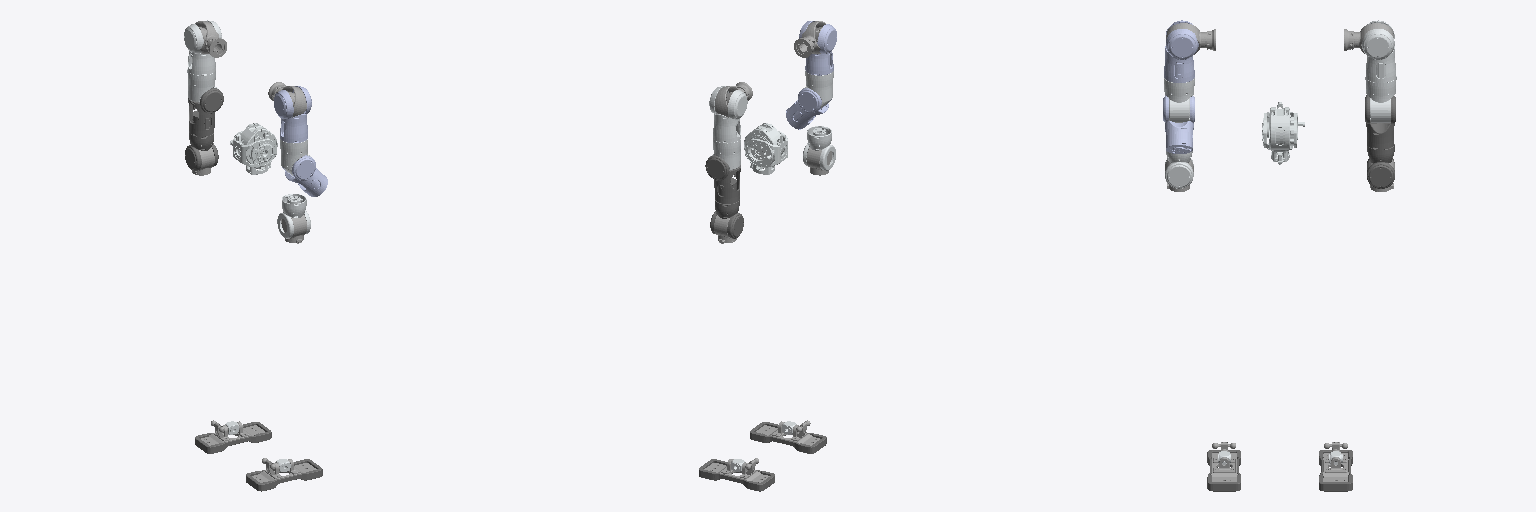
--- Render facts (derived) ---
The picture shows the robot from 3 angles, left to right: view 1: azimuth 30°, elevation 25°; view 2: azimuth 150°, elevation 25°; view 3: azimuth 270°, elevation 25°; orthographic projection.
Robot: ehr03 — 32 links, 31 joints (27 revolute, 4 fixed); root link base_link; default pose: every joint at zero.
Links seen in each view (by area): view 1: r_arm_l2, l_arm_l4, l_arm_l2, r_arm_l4, torso_l2, r_arm_l5, torso_l1, r_foot, l_foot, l_arm_l5, l_arm_l1, l_leg_l6 (+4 smaller); view 2: l_arm_l2, l_arm_l4, r_arm_l2, r_arm_l4, torso_l2, r_arm_l5, torso_l1, l_foot, r_foot, l_arm_l5, r_arm_l1, r_leg_l6 (+4 smaller); view 3: r_arm_l2, l_arm_l2, torso_l1, r_arm_l4, l_arm_l3, l_arm_l5, r_arm_l3, l_arm_l4, r_arm_l5, r_leg_l6, l_leg_l6, l_foot (+3 smaller).
Boxes of the visible links, x1,y1,x2,y2 form: r_arm_l2: (274,86,311,142); l_arm_l4: (188,88,223,136); l_arm_l2: (184,20,221,75); r_arm_l4: (282,155,327,196); torso_l2: (230,131,276,167); r_arm_l5: (277,194,310,238); torso_l1: (238,123,277,174); r_foot: (246,459,322,491); l_foot: (195,422,271,453); l_arm_l5: (185,132,218,170); l_arm_l1: (195,21,226,57); l_leg_l6: (201,420,264,445); l_arm_l2: (709,86,747,142); l_arm_l4: (705,155,740,203); r_arm_l2: (799,21,836,75); r_arm_l4: (786,88,831,129); torso_l2: (745,131,787,167); r_arm_l5: (803,126,835,170); torso_l1: (744,123,783,174); l_foot: (699,459,774,491); r_foot: (750,422,826,453); l_arm_l5: (710,200,743,238); r_arm_l1: (794,21,825,57); r_leg_l6: (756,420,819,445); r_arm_l2: (1164,20,1198,82); l_arm_l2: (1361,20,1395,82); torso_l1: (1267,107,1292,164); r_arm_l4: (1163,95,1194,153); l_arm_l3: (1365,76,1396,122); l_arm_l5: (1367,144,1394,188); r_arm_l3: (1164,78,1194,122); l_arm_l4: (1365,95,1395,149); r_arm_l5: (1165,151,1193,188); r_leg_l6: (1211,442,1237,481); l_leg_l6: (1323,442,1348,481); l_foot: (1319,450,1352,491).
Size in the robot's own frame: 0.222 by 0.6322 by 1.33 metres.
Meshes: 32 distinct files referenced, 20 mesh visuals loaded (20 binary STL); not drawn: 12 (reference not matched to a file when rendering).

The robot description file, URDF, robot "ehr03":
<?xml version="1.0" encoding="utf-8"?>
<!-- This URDF was automatically created by SolidWorks to URDF Exporter! Originally created by Stephen Brawner ([email redacted]) 
     Commit Version: 1.6.0-4-g7f85cfe  Build Version: 1.6.7995.38578
     For more information, please see http://wiki.ros.org/sw_urdf_exporter -->
<robot
  name="ehr03">

  <!-- <mujoco>
		<compiler
		meshdir="./meshes"
		balanceinertia="true"
		discardvisual="false"/>
	</mujoco>

  <link name="world"></link>

	<joint name="floating_base_joint" type="floating">
		<parent link="world" />
		<child link="base_link" />
	</joint> -->


  <link
    name="base_link">
    <inertial>
      <origin
        xyz="-0.00031712 1.8472E-06 -0.0015049"
        rpy="0 0 0" />
      <mass
        value="6.8251" />
      <inertia
        ixx="0.012973"
        ixy="-9.1198E-08"
        ixz="3.8274E-06"
        iyy="0.020966"
        iyz="1.5026E-07"
        izz="0.015372" />
    </inertial>
    <visual>
      <origin
        xyz="0 0 0"
        rpy="0 0 0" />
      <geometry>
        <mesh
          filename="../meshes/base_link.STL" />
      </geometry>
      <material
        name="">
        <color
          rgba="0.97255 0.9451 0.78039 1" />
      </material>
    </visual>
    <collision>
      <origin
        xyz="0 0 0.02"
        rpy="0 0 0" />
      <geometry>
        <box size="0.15 0.2 0.1"/> 
      </geometry>
    </collision>
  </link>
  <link
    name="torso_l1">
    <inertial>
      <origin
        xyz="-0.00046046 -0.0013084 0.071422"
        rpy="0 0 0" />
      <mass
        value="1.0825" />
      <inertia
        ixx="0.0012278"
        ixy="-1.0664E-07"
        ixz="3.4445E-06"
        iyy="0.0021329"
        iyz="-2.2989E-07"
        izz="0.0010455" />
    </inertial>
    <visual>
      <origin
        xyz="0 0 0"
        rpy="0 0 0" />
      <geometry>
        <mesh
          filename="../meshes/torso_l1.STL" />
      </geometry>
      <material
        name="">
        <color
          rgba="0.89804 0.92157 0.92941 1" />
      </material>
    </visual>
    <!-- <collision>
      <origin
        xyz="0 0 0"
        rpy="0 0 0" />
      <geometry>
        <mesh
          filename="../meshes/torso_l1.STL" />
      </geometry>
    </collision> -->
  </link>
  <joint
    name="torso_1"
    type="revolute">
    <origin
      xyz="0 0 0.081437"
      rpy="0 0 0" />
    <parent
      link="base_link" />
    <child
      link="torso_l1" />
    <axis
      xyz="0 0 1" />
    <limit
      lower="2.1"
      upper="-2.1"
      effort="0"
      velocity="0" />
  </joint>
  <link
    name="torso_l2">
    <inertial>
      <origin
        xyz="-0.0202799179905051 0.00208474489443306 -0.000242589659218001"
        rpy="0 0 0" />
      <mass
        value="0.287229653991035" />
      <inertia
        ixx="0.000386494792210617"
        ixy="1.05647346940112E-05"
        ixz="-2.18709366237198E-06"
        iyy="0.000406851266306706"
        iyz="1.25603001489408E-07"
        izz="0.000474516576624121" />
    </inertial>
    <visual>
      <origin
        xyz="0 0 0"
        rpy="0 0 0" />
      <geometry>
        <mesh
          filename="../meshes/torso_l2.STL" />
      </geometry>
      <material
        name="">
        <color
          rgba="0.898039215686275 0.92156862745098 0.929411764705882 1" />
      </material>
    </visual>
    <!-- <collision>
      <origin
        xyz="0 0 0"
        rpy="0 0 0" />
      <geometry>
        <mesh
          filename="../meshes/torso_l2.STL" />
      </geometry>
    </collision> -->
  </link>
  <joint
    name="torso_2"
    type="revolute">
    <origin
      xyz="0 0 0.075"
      rpy="0 0 0" />
    <parent
      link="torso_l1" />
    <child
      link="torso_l2" />
    <axis
      xyz="0 1 0" />
    <limit
      lower="-0.523"
      upper="0.523"
      effort="0"
      velocity="0" />
  </joint>
  <link
    name="torso_l3">
    <inertial>
      <origin
        xyz="0.0373799264981473 0.00162473081269276 0.179849423091844"
        rpy="0 0 0" />
      <mass
        value="12.2978009489006" />
      <inertia
        ixx="0.0939351432924298"
        ixy="-7.53157342591253E-05"
        ixz="0.000294123933166326"
        iyy="0.0572573444631563"
        iyz="0.00170759027911608"
        izz="0.069198092393494" />
    </inertial>
    <visual>
      <origin
        xyz="0 0 0"
        rpy="0 0 0" />
      <geometry>
        <mesh
          filename="../meshes/torso_l3.STL" />
      </geometry>
      <material
        name="">
        <color
          rgba="0.698039215686274 0.698039215686274 0.698039215686274 1" />
      </material>
    </visual>
    <collision>
      <origin
        xyz="0.04 0 0.15"
        rpy="0 0 0" />
      <geometry>
        <box size="0.2 0.25 0.35"/>
      </geometry>
    </collision>
  </link>
  <joint
    name="torso_3"
    type="revolute">
    <origin
      xyz="-0.07 0 0"
      rpy="0 0 0" />
    <parent
      link="torso_l2" />
    <child
      link="torso_l3" />
    <axis
      xyz="1 0 0" />
    <limit
      lower="-0.523"
      upper="0.523"
      effort="0"
      velocity="0" />
  </joint>

  <link
    name="l_arm_l1">
    <inertial>
      <origin
        xyz="0.0042817 0.079957 3.9439E-05"
        rpy="0 0 0" />
      <mass
        value="0.85741" />
      <inertia
        ixx="0.00063493"
        ixy="-1.345E-05"
        ixz="-5.8747E-07"
        iyy="0.00040568"
        iyz="1.9437E-07"
        izz="0.00048248" />
    </inertial>
    <visual>
      <origin
        xyz="0 0 0"
        rpy="0 0 0" />
      <geometry>
        <mesh
          filename="../meshes/l_arm_l1.STL" />
      </geometry>
      <material
        name="">
        <color
          rgba="0.69804 0.69804 0.69804 1" />
      </material>
    </visual>
    <collision>
      <origin
        xyz="0 -0.02 0"
        rpy="1.5708 0 0" />
      <geometry>
        <cylinder length="0.03" radius="0.05"/>
      </geometry>
    </collision>
  </link>
  <joint
    name="l_arm_1"
    type="revolute">
    <origin
      xyz="0.0385 0.1775 0.26"
      rpy="0 0 0" />
    <parent
      link="torso_l3" />
    <child
      link="l_arm_l1" />
    <axis
      xyz="0 1 0" />
    <limit
      lower="-3.14"
      upper="3.14"
      effort="0"
      velocity="0" />
  </joint>
  <link
    name="l_arm_l2">
    <inertial>
      <origin
        xyz="0.0013144 0.0064102 -0.06401"
        rpy="0 0 0" />
      <mass
        value="0.738" />
      <inertia
        ixx="0.00099895"
        ixy="7.8351E-07"
        ixz="6.6198E-06"
        iyy="0.00082629"
        iyz="4.6884E-05"
        izz="0.00047617" />
    </inertial>
    <visual>
      <origin
        xyz="0 0 0"
        rpy="0 0 0" />
      <geometry>
        <mesh
          filename="../meshes/l_arm_l2.STL" />
      </geometry>
      <material
        name="">
        <color
          rgba="0.89804 0.91765 0.92941 1" />
      </material>
    </visual>
    <collision>
      <origin
        xyz="0 0 0"
        rpy="0 0 0" />
      <geometry>
        <sphere radius="0.055"/>
      </geometry>
    </collision>
  </link>
  <joint
    name="l_arm_2"
    type="revolute">
    <origin
      xyz="0 0.088 0"
      rpy="0 0 0" />
    <parent
      link="l_arm_l1" />
    <child
      link="l_arm_l2" />
    <axis
      xyz="1 0 0" />
    <limit
      lower="-0.174"
      upper="2.966"
      effort="0"
      velocity="0" />
  </joint>
  <link
    name="l_arm_l3">
    <inertial>
      <origin
        xyz="0.009896 -0.0066141 -0.07319"
        rpy="0 0 0" />
      <mass
        value="0.74064" />
      <inertia
        ixx="0.00068359"
        ixy="1.0062E-05"
        ixz="5.0992E-05"
        iyy="0.00082345"
        iyz="-1.4378E-05"
        izz="0.00053464" />
    </inertial>
    <visual>
      <origin
        xyz="0 0 0"
        rpy="0 0 0" />
      <geometry>
        <mesh
          filename="../meshes/l_arm_l3.STL" />
      </geometry>
      <material
        name="">
        <color
          rgba="0.89804 0.91765 0.92941 1" />
      </material>
    </visual>
    <collision>
      <origin
        xyz="0 0 -0.022"
        rpy="0 0 0" />
      <geometry>
        <cylinder length="0.04" radius="0.045"/>
      </geometry>
    </collision>
  </link>
  <joint
    name="l_arm_3"
    type="revolute">
    <origin
      xyz="0 0.008 -0.1105"
      rpy="0 0 0" />
    <parent
      link="l_arm_l2" />
    <child
      link="l_arm_l3" />
    <axis
      xyz="0 0 1" />
    <limit
      lower="-1.57"
      upper="1.57"
      effort="0"
      velocity="0" />
  </joint>
  <link
    name="l_arm_l4">
    <inertial>
      <origin
        xyz="-0.012603 0.0003337 -0.070422"
        rpy="0 0 0" />
      <mass
        value="0.66198" />
      <inertia
        ixx="0.00066648"
        ixy="2.7076E-07"
        ixz="-4.099E-05"
        iyy="0.0007706"
        iyz="-9.8796E-06"
        izz="0.00038793" />
    </inertial>
    <visual>
      <origin
        xyz="0 0 0"
        rpy="0 0 0" />
      <geometry>
        <mesh
          filename="../meshes/l_arm_l4.STL" />
      </geometry>
      <material
        name="">
        <color
          rgba="0.50196 0.50196 0.50196 1" />
      </material>
    </visual>
    <collision>
      <origin
        xyz="0 0 0"
        rpy="1.5708 0 0" />
      <geometry>
        <cylinder length="0.08" radius="0.045"/>
      </geometry>
    </collision>
  </link>
  <joint
    name="l_arm_4"
    type="revolute">
    <origin
      xyz="0.015 -0.0015 -0.09"
      rpy="0 0 0" />
    <parent
      link="l_arm_l3" />
    <child
      link="l_arm_l4" />
    <axis
      xyz="0 1 0" />
    <limit
      lower="-2.355"
      upper="0"
      effort="0"
      velocity="0" />
  </joint>
  <link
    name="l_arm_l5">
    <inertial>
      <origin
        xyz="0.00284890358784309 -1.77531858177038E-05 -0.0449513740621532"
        rpy="0 0 0" />
      <mass
        value="0.226386159582947" />
      <inertia
        ixx="0.000322608939322916"
        ixy="1.78851914314604E-08"
        ixz="4.75142835320403E-06"
        iyy="0.000240311101875489"
        iyz="6.38009221929519E-07"
        izz="0.000142621810334324" />
    </inertial>
    <visual>
      <origin
        xyz="0 0 0"
        rpy="0 0 0" />
      <geometry>
        <mesh
          filename="../meshes/l_arm_l5.STL" />
      </geometry>
      <material
        name="">
        <color
          rgba="0.501960784313725 0.501960784313725 0.501960784313725 1" />
      </material>
    </visual>
    <collision>
      <origin
        xyz="0 0 0.01"
        rpy="0 0 0" />
      <geometry>
        <cylinder length="0.08" radius="0.045"/>
      </geometry>
    </collision>
  </link>
  <joint
    name="l_arm_5"
    type="revolute">
    <origin
      xyz="-0.015 0.0015 -0.112"
      rpy="0 0 0" />
    <parent
      link="l_arm_l4" />
    <child
      link="l_arm_l5" />
    <axis
      xyz="0 0 1" />
    <limit
      lower="-1.57"
      upper="1.57"
      effort="0"
      velocity="0" />
  </joint>
  <link
    name="l_arm_l6">
    <inertial>
      <origin
        xyz="0.00599963744246412 7.53656388761681E-05 -0.018041278459013"
        rpy="0 0 0" />
      <mass
        value="0.680310386356842" />
      <inertia
        ixx="0.000406890510326696"
        ixy="-4.3720676111022E-08"
        ixz="-7.09428034976514E-06"
        iyy="0.000289984783202247"
        iyz="-1.40559761334189E-06"
        izz="0.000285519124366489" />
    </inertial>
    <visual>
      <origin
        xyz="0 0 0"
        rpy="0 0 0" />
      <geometry>
        <mesh
          filename="../meshes/l_arm_l6.STL" />
      </geometry>
      <material
        name="">
        <color
          rgba="0.698039215686274 0.698039215686274 0.698039215686274 1" />
      </material>
    </visual>
    <collision>
      <origin
        xyz="0 0 0"
        rpy="0 1.5708 0" />
      <geometry>
        <cylinder length="0.08" radius="0.042"/>
      </geometry>
    </collision>
  </link>
  <joint
    name="l_arm_6"
    type="revolute">
    <origin
      xyz="0 0 -0.079965"
      rpy="0 0 0" />
    <parent
      link="l_arm_l5" />
    <child
      link="l_arm_l6" />
    <axis
      xyz="1 0 0" />
    <limit
      lower="-1.57"
      upper="0.785"
      effort="0"
      velocity="0" />
  </joint>
  <link
    name="l_hand">
    <inertial>
      <origin
        xyz="0.00311186902152288 -0.00264977798512317 -0.0718165054844089"
        rpy="0 0 0" />
      <mass
        value="0.542564324054762" />
      <inertia
        ixx="0.000257708169018791"
        ixy="7.29632014459734E-06"
        ixz="2.05587030462986E-05"
        iyy="0.000406462549781051"
        iyz="-7.01011089725533E-06"
        izz="0.000245561351063755" />
    </inertial>
    <visual>
      <origin
        xyz="0 0 0"
        rpy="0 0 0" />
      <geometry>
        <mesh
          filename="../meshes/l_hand.STL" />
      </geometry>
      <material
        name="">
        <color
          rgba="0.698039215686274 0.698039215686274 0.698039215686274 1" />
      </material>
    </visual>
    <collision>
      <origin
        xyz="0 0 -0.1"
        rpy="0 0 0" />
      <geometry>
        <box size="0.1 0.1 0.2"/>
      </geometry>
    </collision>
  </link>
  <joint
    name="l_hand"
    type="fixed">
    <origin
      xyz="0 0 -0.089982"
      rpy="0 0 0" />
    <parent
      link="l_arm_l6" />
    <child
      link="l_hand" />
    <axis
      xyz="0 0 0" />
  </joint>

  <link
    name="r_arm_l1">
    <inertial>
      <origin
        xyz="0.0042815 -0.079965 3.5123E-05"
        rpy="0 0 0" />
      <mass
        value="0.85741" />
      <inertia
        ixx="0.00063493"
        ixy="1.3454E-05"
        ixz="-5.8421E-07"
        iyy="0.00040287"
        iyz="1.4295E-06"
        izz="0.00048529" />
    </inertial>
    <visual>
      <origin
        xyz="0 0 0"
        rpy="0 0 0" />
      <geometry>
        <mesh
          filename="../meshes/r_arm_l1.STL" />
      </geometry>
      <material
        name="">
        <color
          rgba="0.69804 0.69804 0.69804 1" />
      </material>
    </visual>
    <collision>
      <origin
        xyz="0 0.02 0"
        rpy="1.5708 0 0" />
      <geometry>
        <cylinder length="0.03" radius="0.05"/>
      </geometry>
    </collision>
  </link>
  <joint
    name="r_arm_1"
    type="revolute">
    <origin
      xyz="0.0385 -0.1775 0.26"
      rpy="0 0 0" />
    <parent
      link="torso_l3" />
    <child
      link="r_arm_l1" />
    <axis
      xyz="0 1 0" />
    <limit
      lower="-3.14"
      upper="3.14"
      effort="0"
      velocity="0" />
  </joint>
  <link
    name="r_arm_l2">
    <inertial>
      <origin
        xyz="-0.00017359 -0.0064101 -0.06401"
        rpy="0 0 0" />
      <mass
        value="0.738" />
      <inertia
        ixx="0.00099896"
        ixy="-9.2649E-07"
        ixz="-1.7008E-05"
        iyy="0.0008263"
        iyz="-4.6882E-05"
        izz="0.00047617" />
    </inertial>
    <visual>
      <origin
        xyz="0 0 0"
        rpy="0 0 0" />
      <geometry>
        <mesh
          filename="../meshes/r_arm_l2.STL" />
      </geometry>
      <material
        name="">
        <color
          rgba="0.79216 0.81961 0.93333 1" />
      </material>
    </visual>
    <collision>
      <origin
        xyz="0 0 0"
        rpy="0 0 0" />
      <geometry>
        <sphere radius="0.055"/>
      </geometry>
    </collision>
  </link>
  <joint
    name="r_arm_2"
    type="revolute">
    <origin
      xyz="0 -0.088 0"
      rpy="0 0 0" />
    <parent
      link="r_arm_l1" />
    <child
      link="r_arm_l2" />
    <axis
      xyz="1 0 0" />
    <limit
      lower="-2.966"
      upper="0.174"
      effort="0"
      velocity="0" />
  </joint>
  <link
    name="r_arm_l3">
    <inertial>
      <origin
        xyz="0.0096727 0.0066624 -0.074651"
        rpy="0 0 0" />
      <mass
        value="0.73961" />
      <inertia
        ixx="0.00068356"
        ixy="-1.0059E-05"
        ixz="4.9665E-05"
        iyy="0.00082339"
        iyz="3.8008E-05"
        izz="0.0005346" />
    </inertial>
    <visual>
      <origin
        xyz="0 0 0"
        rpy="0 0 0" />
      <geometry>
        <mesh
          filename="../meshes/r_arm_l3.STL" />
      </geometry>
      <material
        name="">
        <color
          rgba="0.89804 0.91765 0.92941 1" />
      </material>
    </visual>
    <collision>
      <origin
        xyz="0 0 -0.022"
        rpy="0 0 0" />
      <geometry>
        <cylinder length="0.04" radius="0.045"/>
      </geometry>
    </collision>
  </link>
  <joint
    name="r_arm_3"
    type="revolute">
    <origin
      xyz="0 -0.008 -0.1105"
      rpy="0 0 0" />
    <parent
      link="r_arm_l2" />
    <child
      link="r_arm_l3" />
    <axis
      xyz="0 0 1" />
    <limit
      lower="-1.57"
      upper="1.57"
      effort="0"
      velocity="0" />
  </joint>
  <link
    name="r_arm_l4">
    <inertial>
      <origin
        xyz="-0.012244 0.0011325 -0.068383"
        rpy="0 0 0" />
      <mass
        value="0.68172" />
      <inertia
        ixx="0.0006717"
        ixy="-1.2873E-07"
        ixz="-4.1067E-05"
        iyy="0.00078101"
        iyz="9.8816E-06"
        izz="0.00039315" />
    </inertial>
    <visual>
      <origin
        xyz="0 0 0"
        rpy="0 0 0" />
      <geometry>
        <mesh
          filename="../meshes/r_arm_l4.STL" />
      </geometry>
      <material
        name="">
        <color
          rgba="0.79216 0.81961 0.93333 1" />
      </material>
    </visual>
    <collision>
      <origin
        xyz="0 0 0"
        rpy="1.5708 0 0" />
      <geometry>
        <cylinder length="0.08" radius="0.045"/>
      </geometry>
    </collision>
  </link>
  <joint
    name="r_arm_4"
    type="revolute">
    <origin
      xyz="0.015 0 -0.09"
      rpy="0 0 0" />
    <parent
      link="r_arm_l3" />
    <child
      link="r_arm_l4" />
    <axis
      xyz="0 1 0" />
    <limit
      lower="-2.355"
      upper="0"
      effort="0"
      velocity="0" />
  </joint>
  <link
    name="r_arm_l5">
    <inertial>
      <origin
        xyz="0.00263195917349437 1.652319311507E-05 -0.0479672140244061"
        rpy="0 0 0" />
      <mass
        value="0.245025971877075" />
      <inertia
        ixx="0.000332458879796026"
        ixy="-1.83846949955234E-08"
        ixz="4.73329198485213E-06"
        iyy="0.000244968808068789"
        iyz="-6.39428036414476E-07"
        izz="0.000147460491487677" />
    </inertial>
    <visual>
      <origin
        xyz="0 0 0"
        rpy="0 0 0" />
      <geometry>
        <mesh
          filename="../meshes/r_arm_l5.STL" />
      </geometry>
      <material
        name="">
        <color
          rgba="0.898039215686275 0.917647058823529 0.929411764705882 1" />
      </material>
    </visual>
    <collision>
      <origin
        xyz="0 0 0.01"
        rpy="0 0 0" />
      <geometry>
        <cylinder length="0.08" radius="0.045"/>
      </geometry>
    </collision>
  </link>
  <joint
    name="r_arm_5"
    type="revolute">
    <origin
      xyz="-0.015 0 -0.1115"
      rpy="0 0 0" />
    <parent
      link="r_arm_l4" />
    <child
      link="r_arm_l5" />
    <axis
      xyz="0 0 1" />
    <limit
      lower="-1.57"
      upper="1.57"
      effort="0"
      velocity="0" />
  </joint>
  <link
    name="r_arm_l6">
    <inertial>
      <origin
        xyz="0.00610069908605848 -7.56282892629412E-05 -0.0183483058303869"
        rpy="0 0 0" />
      <mass
        value="0.680312946083179" />
      <inertia
        ixx="0.000406891005044502"
        ixy="3.21497717692941E-07"
        ixz="-6.15421557120272E-06"
        iyy="0.000289980794985593"
        iyz="1.35645239625283E-06"
        izz="0.000285520024713086" />
    </inertial>
    <visual>
      <origin
        xyz="0 0 0"
        rpy="0 0 0" />
      <geometry>
        <mesh
          filename="../meshes/r_arm_l6.STL" />
      </geometry>
      <material
        name="">
        <color
          rgba="0.698039215686274 0.698039215686274 0.698039215686274 1" />
      </material>
    </visual>
    <collision>
      <origin
        xyz="0 0 0"
        rpy="0 1.5708 0" />
      <geometry>
        <cylinder length="0.08" radius="0.042"/>
      </geometry>
    </collision>
  </link>
  <joint
    name="r_arm_6"
    type="revolute">
    <origin
      xyz="0 0 -0.079965"
      rpy="0 0 0" />
    <parent
      link="r_arm_l5" />
    <child
      link="r_arm_l6" />
    <axis
      xyz="1 0 0" />
    <limit
      lower="-0.785"
      upper="1.57"
      effort="0"
      velocity="0" />
  </joint>
  <link
    name="r_hand">
    <inertial>
      <origin
        xyz="0.00333053011456949 0.00279443089900044 -0.063712304754702"
        rpy="0 0 0" />
      <mass
        value="0.285554031063664" />
      <inertia
        ixx="0.000348270588634313"
        ixy="-5.41064818489716E-06"
        ixz="7.7001609288786E-06"
        iyy="0.00042098260053404"
        iyz="-2.40123561300967E-06"
        izz="0.000127864368650063" />
    </inertial>
    <visual>
      <origin
        xyz="0 0 0"
        rpy="0 0 0" />
      <geometry>
        <mesh
          filename="../meshes/r_hand.STL" />
      </geometry>
      <material
        name="">
        <color
          rgba="0.792156862745098 0.819607843137255 0.933333333333333 1" />
      </material>
    </visual>
    <collision>
      <origin
        xyz="0 0 -0.1"
        rpy="0 0 0" />
      <geometry>
        <box size="0.1 0.1 0.2"/>
      </geometry>
    </collision>
  </link>
  <joint
    name="r_hand"
    type="fixed">
    <origin
      xyz="-0.000590061949561654 0.000636374528532158 -0.100087473074552"
      rpy="0 0 0" />
    <parent
      link="r_arm_l6" />
    <child
      link="r_hand" />
    <axis
      xyz="0 0 0" />
  </joint>
  <link
    name="l_leg_l1">
    <inertial>
      <origin
        xyz="-0.0551 0.061208 -0.048362"
        rpy="0 0 0" />
      <mass
        value="2.3192" />
      <inertia
        ixx="0.0055215"
        ixy="-3.1301E-05"
        ixz="2.6534E-05"
        iyy="0.0055667"
        iyz="0.00057568"
        izz="0.0054527" />
    </inertial>
    <visual>
      <origin
        xyz="0 0 0"
        rpy="0 0 0" />
      <geometry>
        <mesh
          filename="../meshes/l_leg_l1.STL" />
      </geometry>
      <material
        name="">
        <color
          rgba="0.89804 0.92157 0.92941 1" />
      </material>
    </visual>
    <collision>
      <origin
        xyz="0 0.08 -0.07"
        rpy="0 0 0" />
      <geometry>
        <sphere radius="0.06"/>
      </geometry>
    </collision>
  </link>
  <joint
    name="l_leg_1"
    type="revolute">
    <origin
      xyz="0 0.11119 -0.025524"
      rpy="-0.43633 0 0" />
    <parent
      link="base_link" />
    <child
      link="l_leg_l1" />
    <axis
      xyz="0 1 0" />
    <limit
      lower="-1.57"
      upper="1.57"
      effort="0"
      velocity="0" />
  </joint>
  <link
    name="l_leg_l2">
    <inertial>
      <origin
        xyz="-0.000618245872715889 4.77709850341124E-05 -0.0545842494289131"
        rpy="0 0 0" />
      <mass
        value="1.69849935394942" />
      <inertia
        ixx="0.00165371443501791"
        ixy="-2.73757851039393E-08"
        ixz="1.07841383862827E-06"
        iyy="0.00172966120948049"
        iyz="1.31636480091848E-07"
        izz="0.00317239466660265" />
    </inertial>
    <visual>
      <origin
        xyz="0 0 0"
        rpy="0 0 0" />
      <geometry>
        <mesh
          filename="../meshes/l_leg_l2.STL" />
      </geometry>
      <material
        name="">
        <color
          rgba="0.890196078431372 0.890196078431372 0.913725490196078 1" />
      </material>
    </visual>
    <!-- <collision>
      <origin
        xyz="0 0 0"
        rpy="0 0 0" />
      <geometry>
        <mesh
          filename="../meshes/l_leg_l2.STL" />
      </geometry>
    </collision> -->
  </link>
  <joint
    name="l_leg_2"
    type="revolute">
    <origin
      xyz="0 0.072175 -0.060131"
      rpy="0.43633 0 0" />
    <parent
      link="l_leg_l1" />
    <child
      link="l_leg_l2" />
    <axis
      xyz="1 0 0" />
    <limit
      lower="-0.2"
      upper="1.57"
      effort="0"
      velocity="0" />
  </joint>
  <link
    name="l_leg_l3">
    <inertial>
      <origin
        xyz="0.00870576841431767 0.00711872558684654 -0.110867696166451"
        rpy="0 0 0" />
      <mass
        value="4.18082092877311" />
      <inertia
        ixx="0.0156856741660516"
        ixy="-1.2410720604096E-05"
        ixz="0.00227009960454465"
        iyy="0.0257461937369482"
        iyz="4.09676099025554E-05"
        izz="0.0120634718231623" />
    </inertial>
    <visual>
      <origin
        xyz="0 0 0"
        rpy="0 0 0" />
      <geometry>
        <mesh
          filename="../meshes/l_leg_l3.STL" />
      </geometry>
      <material
        name="">
        <color
          rgba="0.898039215686275 0.92156862745098 0.929411764705882 1" />
      </material>
    </visual>
    <collision>
      <origin
        xyz="0.025 0 -0.12"
        rpy="0 -0.3 0" />
      <geometry>
        <box size="0.15 0.12 0.2"/>
      </geometry>
    </collision>
  </link>
  <joint
    name="l_leg_3"
    type="revolute">
    <origin
      xyz="0 0 -0.1015"
      rpy="0 0 0" />
    <parent
      link="l_leg_l2" />
    <child
      link="l_leg_l3" />
    <axis
      xyz="0 0 1" />
    <limit
      lower="-1.57"
      upper="1.57"
      effort="0"
      velocity="0" />
  </joint>
  <link
    name="l_leg_l4">
    <inertial>
      <origin
        xyz="0.0299168562970824 8.79310017460055E-05 -0.116603792654381"
        rpy="0 0 0" />
      <mass
        value="2.1476160477088" />
      <inertia
        ixx="0.0133755399714159"
        ixy="-1.49263105042457E-06"
        ixz="-0.00105104840454285"
        iyy="0.014397771707106"
        iyz="-2.34390996057051E-05"
        izz="0.00148103624478909" />
    </inertial>
    <visual>
      <origin
        xyz="0 0 0"
        rpy="0 0 0" />
      <geometry>
        <mesh
          filename="../meshes/l_leg_l4.STL" />
      </geometry>
      <material
        name="">
        <color
          rgba="0.898039215686275 0.92156862745098 0.929411764705882 1" />
      </material>
    </visual>
    <collision>
      <origin
        xyz="0.02 0 -0.15"
        rpy="0 0.25 0" />
      <geometry>
        <box size="0.1 0.08 0.2"/>
      </geometry>
    </collision>
  </link>
  <joint
    name="l_leg_4"
    type="revolute">
    <origin
      xyz="0.015252 0 -0.27933"
      rpy="0 0 0" />
    <parent
      link="l_leg_l3" />
    <child
      link="l_leg_l4" />
    <axis
      xyz="0 1 0" />
    <limit
      lower="0"
      upper="2.268"
      effort="0"
      velocity="0" />
  </joint>
  <link
    name="l_leg_l5">
    <inertial>
      <origin
        xyz="-1.61401901704883E-07 2.06664685364899E-11 -1.24612466345653E-07"
        rpy="0 0 0" />
      <mass
        value="0.0709312324571019" />
      <inertia
        ixx="9.66599754910723E-06"
        ixy="1.18593674151307E-13"
        ixz="4.62958037626118E-10"
        iyy="1.79215892666062E-05"
        iyz="2.4825317599626E-11"
        izz="1.65286239844421E-05" />
    </inertial>
    <visual>
      <origin
        xyz="0 0 0"
        rpy="0 0 0" />
      <geometry>
        <mesh
          filename="../meshes/l_leg_l5.STL" />
      </geometry>
      <material
        name="">
        <color
          rgba="0.898039215686275 0.917647058823529 0.929411764705882 1" />
      </material>
    </visual>
    <!-- <collision>
      <origin
        xyz="0 0 0"
        rpy="0 0 0" />
      <geometry>
        <mesh
          filename="../meshes/l_leg_l5.STL" />
      </geometry>
    </collision> -->
  </link>
  <joint
    name="l_leg_5"
    type="revolute">
    <origin
      xyz="-0.015 0 -0.33"
      rpy="0 -5.6723E-05 0" />
    <parent
      link="l_leg_l4" />
    <child
      link="l_leg_l5" />
    <axis
      xyz="0 1 0" />
    <limit
      lower="-1.05"
      upper="1.05"
      effort="0"
      velocity="0" />
  </joint>
  <link
    name="l_leg_l6">
    <inertial>
      <origin
        xyz="-0.00899522907297101 1.84267150427075E-08 -0.0143156276974493"
        rpy="0 0 0" />
      <mass
        value="0.351383505957619" />
      <inertia
        ixx="0.000150134037328725"
        ixy="1.03962027311874E-09"
        ixz="3.92089619805048E-06"
        iyy="0.000809455147489123"
        iyz="-1.82369631536864E-11"
        izz="0.000935885318036963" />
    </inertial>
    <visual>
      <origin
        xyz="0 0 0"
        rpy="0 0 0" />
      <geometry>
        <mesh
          filename="../meshes/l_leg_l6.STL" />
      </geometry>
      <material
        name="">
        <color
          rgba="0.698039215686274 0.698039215686274 0.698039215686274 1" />
      </material>
    </visual>
    <!-- <collision>
      <origin
        xyz="0 0 0"
        rpy="0 0 0" />
      <geometry>
        <mesh
          filename="../meshes/l_leg_l6.STL" />
      </geometry>
    </collision> -->
  </link>
  <joint
    name="l_leg_6"
    type="revolute">
    <origin
      xyz="0 0 0"
      rpy="0 5.6723E-05 0" />
    <parent
      link="l_leg_l5" />
    <child
      link="l_leg_l6" />
    <axis
      xyz="1 0 0" />
    <limit
      lower="-0.523"
      upper="0.523"
      effort="0"
      velocity="0" />
  </joint>
  <link
    name="l_foot">
    <inertial>
      <origin
        xyz="0.00706739115839836 2.74490985496811E-11 -0.0069363840028096"
        rpy="0 0 0" />
      <mass
        value="0.204031733952443" />
      <inertia
        ixx="0.000173514541890841"
        ixy="2.71873608278827E-12"
        ixz="2.73501624568859E-06"
        iyy="0.00107336739504911"
        iyz="3.24252469109395E-14"
        izz="0.0012325599614441" />
    </inertial>
    <visual>
      <origin
        xyz="0 0 0"
        rpy="0 0 0" />
      <geometry>
        <mesh
          filename="../meshes/l_foot.STL" />
      </geometry>
      <material
        name="">
        <color
          rgba="0.501960784313725 0.501960784313725 0.501960784313725 1" />
      </material>
    </visual>
    <collision>
      <origin
        xyz="0 0 0"
        rpy="0 0 0" />
      <geometry>
        <mesh
          filename="../meshes/l_foot.STL" />
      </geometry>
    </collision>
  </link>
  <joint
    name="l_foot"
    type="fixed">
    <origin
      xyz="0 0 -0.02725"
      rpy="0 -5.6723E-05 0" />
    <parent
      link="l_leg_l6" />
    <child
      link="l_foot" />
    <axis
      xyz="0 0 0" />
  </joint>
  
  <!-- <link
    name="l_leg_l41">
    <inertial>
      <origin
        xyz="-0.0114625779184166 -0.00184674101410032 0.00612170542081425"
        rpy="0 0 0" />
      <mass
        value="0.0512831620596269" />
      <inertia
        ixx="1.25181394744716E-05"
        ixy="1.82042740446296E-06"
        ixz="5.89998701513713E-06"
        iyy="3.30040940773024E-05"
        iyz="-9.7221024698086E-07"
        izz="2.3236247422369E-05" />
    </inertial>
    <visual>
      <origin
        xyz="0 0 0"
        rpy="0 0 0" />
      <geometry>
        <mesh
          filename="../meshes/l_leg_l41.STL" />
      </geometry>
      <material
        name="">
        <color
          rgba="0.898039215686275 0.92156862745098 0.929411764705882 1" />
      </material>
    </visual>
    <collision>
      <origin
        xyz="0 0 0"
        rpy="0 0 0" />
      <geometry>
        <mesh
          filename="../meshes/l_leg_l41.STL" />
      </geometry>
    </collision>
  </link>
  <joint
    name="l_leg_41"
    type="revolute">
    <origin
      xyz="0.035 0.03325 -0.085"
      rpy="0 0 0" />
    <parent
      link="l_leg_l4" />
    <child
      link="l_leg_l41" />
    <axis
      xyz="0 1 0" />
    <limit
      lower="-0.785"
      upper="0.785"
      effort="0"
      velocity="0" />
  </joint>
  <link
    name="l_leg_l42">
    <inertial>
      <origin
        xyz="0.0251587805446983 0.00350699888496603 0.122467487443422"
        rpy="0 1.3682 0" />
      <mass
        value="0.0878455704825654" />
      <inertia
        ixx="0.000601858648660506"
        ixy="-1.51087321943984E-07"
        ixz="-0.000123012561981327"
        iyy="0.000629563741150999"
        iyz="3.08334240548895E-08"
        izz="2.83310696287515E-05" />
    </inertial>
    <visual>
      <origin
        xyz="0 0 0"
        rpy="0 1.3682 0" />
      <geometry>
        <mesh
          filename="../meshes/l_leg_l42.STL" />
      </geometry>
      <material
        name="">
        <color
          rgba="0.988235294117647 0.737254901960784 0.517647058823529 1" />
      </material>
    </visual>
    <collision>
      <origin
        xyz="0 0 0"
        rpy="0 0 0" />
      <geometry>
        <mesh
          filename="../meshes/l_leg_l42.STL" />
      </geometry>
    </collision>
  </link>
  <joint
    name="l_leg_42"
    type="revolute">
    <origin
      xyz="-0.047183 -0.012257 0.016545"
      rpy="3.1416 1.3682 3.1416" />
    <parent
      link="l_leg_l41" />
    <child
      link="l_leg_l42" />
    <axis
      xyz="0 1 0" />
    <limit
      lower="-0.785"
      upper="0.785"
      effort="0"
      velocity="0" />
  </joint>
  <link
    name="l_leg_l43">
    <inertial>
      <origin
        xyz="-0.0114631426998501 0.00184677882754439 0.00612062671188818"
        rpy="0 0 0" />
      <mass
        value="0.0512831539860101" />
      <inertia
        ixx="1.25170175897274E-05"
        ixy="-1.82045276485524E-06"
        ixz="5.89898023915975E-06"
        iyy="3.30040981246272E-05"
        iyz="9.72019528596417E-07"
        izz="2.32373491901737E-05" />
    </inertial>
    <visual>
      <origin
        xyz="0 0 0"
        rpy="0 0 0" />
      <geometry>
        <mesh
          filename="../meshes/l_leg_l43.STL" />
      </geometry>
      <material
        name="">
        <color
          rgba="0.792156862745098 0.819607843137255 0.933333333333333 1" />
      </material>
    </visual>
    <collision>
      <origin
        xyz="0 0 0"
        rpy="0 0 0" />
      <geometry>
        <mesh
          filename="../meshes/l_leg_l43.STL" />
      </geometry>
    </collision>
  </link>
  <joint
    name="l_leg_43"
    type="revolute">
    <origin
      xyz="0.02 -0.03325 -0.17"
      rpy="0 0 0" />
    <parent
      link="l_leg_l4" />
    <child
      link="l_leg_l43" />
    <axis
      xyz="0 1 0" />
    <limit
      lower="-0.785"
      upper="0.785"
      effort="0"
      velocity="0" />
  </joint>
  <link
    name="l_leg_l44">
    <inertial>
      <origin
        xyz="0.081891697991236 -0.0035568853517394 -5.52685075483339E-09"
        rpy="0 0 0" />
      <mass
        value="0.0628338558710505" />
      <inertia
        ixx="2.64238019593025E-06"
        ixy="-7.26656004815086E-11"
        ixz="1.32302076356501E-13"
        iyy="0.000214421969273513"
        iyz="-3.85586562584703E-07"
        izz="0.000212362280554598" />
    </inertial>
    <visual>
      <origin
        xyz="0 0 0"
        rpy="0 0 0" />
      <geometry>
        <mesh
          filename="../meshes/l_leg_l44.STL" />
      </geometry>
      <material
        name="">
        <color
          rgba="0.988235294117647 0.737254901960784 0.517647058823529 1" />
      </material>
    </visual>
    <collision>
      <origin
        xyz="0 0 0"
        rpy="0 0 0" />
      <geometry>
        <mesh
          filename="../meshes/l_leg_l44.STL" />
      </geometry>
    </collision>
  </link>
  <joint
    name="l_leg_44"
    type="revolute">
    <origin
      xyz="-0.047185 0.012307 0.01654"
      rpy="3.1416 1.3535 3.1416" />
    <parent
      link="l_leg_l43" />
    <child
      link="l_leg_l44" />
    <axis
      xyz="0 1 0" />
    <limit
      lower="-0.785"
      upper="0.785"
      effort="0"
      velocity="0" />
  </joint>
  <link
    name="l_leg_l31">
    <inertial>
      <origin
        xyz="0.00962415388363308 -0.000382111566521903 0.0166694644811873"
        rpy="0 0 0" />
      <mass
        value="0.196495727897674" />
      <inertia
        ixx="0.000194034369752195"
        ixy="1.58910738471429E-05"
        ixz="-5.54681088872687E-05"
        iyy="0.000304555639491397"
        iyz="2.75238650335641E-05"
        izz="0.00012998533526326" />
    </inertial>
    <visual>
      <origin
        xyz="0 0 0"
        rpy="0 0 0" />
      <geometry>
        <mesh
          filename="../meshes/l_leg_l31.STL" />
      </geometry>
      <material
        name="">
        <color
          rgba="0.898039215686275 0.92156862745098 0.929411764705882 1" />
      </material>
    </visual>
    <collision>
      <origin
        xyz="0 0 0"
        rpy="0 0 0" />
      <geometry>
        <mesh
          filename="../meshes/l_leg_l31.STL" />
      </geometry>
    </collision>
  </link>
  <joint
    name="l_leg_31"
    type="revolute">
    <origin
      xyz="0 -0.0275 -0.105"
      rpy="0 0 0" />
    <parent
      link="l_leg_l3" />
    <child
      link="l_leg_l31" />
    <axis
      xyz="0 1 0" />
    <limit
      lower="0"
      upper="2.355"
      effort="0"
      velocity="0" />
  </joint>
  <link
    name="l_leg_l32">
    <inertial>
      <origin
        xyz="0.0874999991678752 -0.00600002458809995 0.00785566977560981"
        rpy="0 0 0" />
      <mass
        value="0.0813255142798762" />
      <inertia
        ixx="7.8529477308492E-06"
        ixy="4.62493580510764E-11"
        ixz="1.81333872139385E-18"
        iyy="0.000341330703551003"
        iyz="1.01094713063739E-11"
        izz="0.000334953337703095" />
    </inertial>
    <visual>
      <origin
        xyz="0 0 0"
        rpy="0 0 0" />
      <geometry>
        <mesh
          filename="../meshes/l_leg_l32.STL" />
      </geometry>
      <material
        name="">
        <color
          rgba="0.568627450980392 0.549019607843137 0.509803921568627 1" />
      </material>
    </visual>
    <collision>
      <origin
        xyz="0 0 0"
        rpy="0 0 0" />
      <geometry>
        <mesh
          filename="../meshes/l_leg_l32.STL" />
      </geometry>
    </collision>
  </link>
  <joint
    name="l_leg_32"
    type="revolute">
    <origin
      xyz="0.034 0.012 0.05889"
      rpy="0 1.4835 0" />
    <parent
      link="l_leg_l31" />
    <child
      link="l_leg_l32" />
    <axis
      xyz="0 1 0" />
    <limit
      lower="0"
      upper="2.355"
      effort="0"
      velocity="0" />
  </joint> -->

  
  <link
    name="r_leg_l1">
    <inertial>
      <origin
        xyz="-0.0551 -0.061273 -0.048332"
        rpy="0 0 0" />
      <mass
        value="2.3192" />
      <inertia
        ixx="0.0055215"
        ixy="3.1554E-05"
        ixz="2.6407E-05"
        iyy="0.0055667"
        iyz="-0.00057569"
        izz="0.0054527" />
    </inertial>
    <visual>
      <origin
        xyz="0 0 0"
        rpy="0 0 0" />
      <geometry>
        <mesh
          filename="../meshes/r_leg_l1.STL" />
      </geometry>
      <material
        name="">
        <color
          rgba="0.69804 0.69804 0.69804 1" />
      </material>
    </visual>
    <collision>
      <origin
        xyz="0 -0.08 -0.07"
        rpy="0 0 0" />
      <geometry>
        <sphere radius="0.06"/>
      </geometry>
    </collision>
  </link>
  <joint
    name="r_leg_1"
    type="revolute">
    <origin
      xyz="0 -0.11119 -0.025524"
      rpy="0.43633 0 0" />
    <parent
      link="base_link" />
    <child
      link="r_leg_l1" />
    <axis
      xyz="0 1 0" />
    <limit
      lower="-1.57"
      upper="1.57"
      effort="0"
      velocity="0" />
  </joint>
  <link
    name="r_leg_l2">
    <inertial>
      <origin
        xyz="-0.00063271612110391 -5.03004228351867E-05 -0.0545842494008995"
        rpy="0 0 0" />
      <mass
        value="1.69849935387438" />
      <inertia
        ixx="0.00165371443459442"
        ixy="-2.73903509360856E-08"
        ixz="1.04144515420198E-06"
        iyy="0.00172966118327399"
        iyz="-1.4363818798877E-07"
        izz="0.0031723946926459" />
    </inertial>
    <visual>
      <origin
        xyz="0 0 0"
        rpy="0 0 0" />
      <geometry>
        <mesh
          filename="../meshes/r_leg_l2.STL" />
      </geometry>
      <material
        name="">
        <color
          rgba="0.898039215686275 0.92156862745098 0.929411764705882 1" />
      </material>
    </visual>
    <!-- <collision>
      <origin
        xyz="0 0 0"
        rpy="0 0 0" />
      <geometry>
        <mesh
          filename="../meshes/r_leg_l2.STL" />
      </geometry>
    </collision> -->
  </link>
  <joint
    name="r_leg_2"
    type="revolute">
    <origin
      xyz="0 -0.072175 -0.060131"
      rpy="-0.43633 0 0" />
    <parent
      link="r_leg_l1" />
    <child
      link="r_leg_l2" />
    <axis
      xyz="1 0 0" />
    <limit
      lower="-1.57"
      upper="0.2"
      effort="0"
      velocity="0" />
  </joint>
  <link
    name="r_leg_l3">
    <inertial>
      <origin
        xyz="0.00891748624197258 -0.00711891725841565 -0.110867697075886"
        rpy="0 0 0" />
      <mass
        value="4.18082137505399" />
      <inertia
        ixx="0.015685676539746"
        ixy="1.24958744111967E-05"
        ixz="0.00227006438815762"
        iyy="0.0257461969434312"
        iyz="-4.09581531630727E-05"
        izz="0.0120634731376903" />
    </inertial>
    <visual>
      <origin
        xyz="0 0 0"
        rpy="0 0 0" />
      <geometry>
        <mesh
          filename="../meshes/r_leg_l3.STL" />
      </geometry>
      <material
        name="">
        <color
          rgba="0.898039215686275 0.92156862745098 0.929411764705882 1" />
      </material>
    </visual>
    <collision>
      <origin
        xyz="0.025 0 -0.12"
        rpy="0 -0.3 0" />
      <geometry>
        <box size="0.15 0.12 0.2"/>
      </geometry>
    </collision>
  </link>
  <joint
    name="r_leg_3"
    type="revolute">
    <origin
      xyz="0 0 -0.1015"
      rpy="0 0 0" />
    <parent
      link="r_leg_l2" />
    <child
      link="r_leg_l3" />
    <axis
      xyz="0 0 1" />
    <limit
      lower="-1.57"
      upper="1.57"
      effort="0"
      velocity="0" />
  </joint>
  <link
    name="r_leg_l4">
    <inertial>
      <origin
        xyz="0.0299555372182449 -7.96646162687376E-06 -0.115116152279691"
        rpy="0 0 0" />
      <mass
        value="2.16601324476933" />
      <inertia
        ixx="0.0133785268083999"
        ixy="1.48495024463299E-06"
        ixz="-0.00105034883209778"
        iyy="0.0144001115504768"
        iyz="2.33246823711886E-05"
        izz="0.00148314350410106" />
    </inertial>
    <visual>
      <origin
        xyz="0 0 0"
        rpy="0 0 0" />
      <geometry>
        <mesh
          filename="../meshes/r_leg_l4.STL" />
      </geometry>
      <material
        name="">
        <color
          rgba="0.792156862745098 0.819607843137255 0.933333333333333 1" />
      </material>
    </visual>
    <collision>
      <origin
        xyz="0.02 0 -0.15"
        rpy="0 0.25 0" />
      <geometry>
        <box size="0.1 0.08 0.2"/>
      </geometry>
    </collision>
  </link>
  <joint
    name="r_leg_4"
    type="revolute">
    <origin
      xyz="0.015252 0 -0.27933"
      rpy="0 0 0" />
    <parent
      link="r_leg_l3" />
    <child
      link="r_leg_l4" />
    <axis
      xyz="0 1 0" />
    <limit
      lower="0"
      upper="2.268"
      effort="0"
      velocity="0" />
  </joint>
  <link
    name="r_leg_l5">
    <inertial>
      <origin
        xyz="-1.6139483288713E-07 2.09541273221703E-11 -1.24621621244714E-07"
        rpy="0 0 0" />
      <mass
        value="0.0709312324571008" />
      <inertia
        ixx="9.66599751868806E-06"
        ixy="1.32540310408877E-11"
        ixz="7.36910941179441E-11"
        iyy="1.79215892665848E-05"
        iyz="2.48252068791303E-11"
        izz="1.65286240148823E-05" />
    </inertial>
    <visual>
      <origin
        xyz="0 0 0"
        rpy="0 0 0" />
      <geometry>
        <mesh
          filename="../meshes/r_leg_l5.STL" />
      </geometry>
      <material
        name="">
        <color
          rgba="0.898039215686275 0.917647058823529 0.929411764705882 1" />
      </material>
    </visual>
    <!-- <collision>
      <origin
        xyz="0 0 0"
        rpy="0 0 0" />
      <geometry>
        <mesh
          filename="../meshes/r_leg_l5.STL" />
      </geometry>
    </collision> -->
  </link>
  <joint
    name="r_leg_5"
    type="revolute">
    <origin
      xyz="-0.014981 0 -0.33"
      rpy="0 0 0" />
    <parent
      link="r_leg_l4" />
    <child
      link="r_leg_l5" />
    <axis
      xyz="0 1 0" />
    <limit
      lower="-1.05"
      upper="1.05"
      effort="0"
      velocity="0" />
  </joint>
  <link
    name="r_leg_l6">
    <inertial>
      <origin
        xyz="-0.00899522815001647 5.38200409239131E-09 -0.0143156276974569"
        rpy="0 0 0" />
      <mass
        value="0.351383505957029" />
      <inertia
        ixx="0.000150134037328834"
        ixy="1.03961824419217E-09"
        ixz="3.9208950172656E-06"
        iyy="0.000809455147489108"
        iyz="1.79883390713471E-11"
        izz="0.000935885318036813" />
    </inertial>
    <visual>
      <origin
        xyz="0 0 0"
        rpy="0 0 0" />
      <geometry>
        <mesh
          filename="../meshes/r_leg_l6.STL" />
      </geometry>
      <material
        name="">
        <color
          rgba="0.698039215686274 0.698039215686274 0.698039215686274 1" />
      </material>
    </visual>
    <!-- <collision>
      <origin
        xyz="0 0 0"
        rpy="0 0 0" />
      <geometry>
        <mesh
          filename="../meshes/r_leg_l6.STL" />
      </geometry>
    </collision> -->
  </link>
  <joint
    name="r_leg_6"
    type="revolute">
    <origin
      xyz="0 0 0"
      rpy="0 0 0" />
    <parent
      link="r_leg_l5" />
    <child
      link="r_leg_l6" />
    <axis
      xyz="1 0 0" />
    <limit
      lower="-0.523"
      upper="0.523"
      effort="0"
      velocity="0" />
  </joint>
  <link
    name="r_foot">
    <inertial>
      <origin
        xyz="0.00706739115839866 2.74824607515711E-11 -0.00693638400280949"
        rpy="0 0 0" />
      <mass
        value="0.204031733952443" />
      <inertia
        ixx="0.000173514541890842"
        ixy="2.71873652280578E-12"
        ixz="2.73501624568848E-06"
        iyy="0.00107336739504911"
        iyz="3.24252312654678E-14"
        izz="0.0012325599614441" />
    </inertial>
    <visual>
      <origin
        xyz="0 0 0"
        rpy="0 0 0" />
      <geometry>
        <mesh
          filename="../meshes/r_foot.STL" />
      </geometry>
      <material
        name="">
        <color
          rgba="0.501960784313725 0.501960784313725 0.501960784313725 1" />
      </material>
    </visual>
    <collision>
      <origin
        xyz="0 0 0"
        rpy="0 0 0" />
      <geometry>
        <mesh
          filename="../meshes/r_foot.STL" />
      </geometry>
    </collision>
  </link>
  <joint
    name="r_foot"
    type="fixed">
    <origin
      xyz="0 0 -0.02725"
      rpy="0 -5.6723E-05 0" />
    <parent
      link="r_leg_l6" />
    <child
      link="r_foot" />
    <axis
      xyz="0 0 0" />
  </joint>

  <!-- <link
    name="r_leg_l41">
    <inertial>
      <origin
        xyz="-0.0114625655785127 0.00184677882669779 0.0061217074617933"
        rpy="0 0 0" />
      <mass
        value="0.0512831539843265" />
      <inertia
        ixx="1.25181300294809E-05"
        ixy="-1.82036111286673E-06"
        ixz="5.89999087649424E-06"
        iyy="3.30040981235628E-05"
        iyz="9.72191163057491E-07"
        izz="2.32362367498432E-05" />
    </inertial>
    <visual>
      <origin
        xyz="0 0 0"
        rpy="0 0 0" />
      <geometry>
        <mesh
          filename="../meshes/r_leg_l41.STL" />
      </geometry>
      <material
        name="">
        <color
          rgba="0.792156862745098 0.819607843137255 0.933333333333333 1" />
      </material>
    </visual>
    <collision>
      <origin
        xyz="0 0 0"
        rpy="0 0 0" />
      <geometry>
        <mesh
          filename="../meshes/r_leg_l41.STL" />
      </geometry>
    </collision> 
  </link>
  <joint
    name="r_leg_41"
    type="revolute">
    <origin
      xyz="0.035005 -0.03325 -0.084998"
      rpy="0 0 0" />
    <parent
      link="r_leg_l4" />
    <child
      link="r_leg_l41" />
    <axis
      xyz="0 1 0" />
    <limit
      lower="-0.785"
      upper="0.785"
      effort="0"
      velocity="0" />
  </joint>
  <link
    name="r_leg_l42">
    <inertial>
      <origin
        xyz="0.125024998625315 -0.00351368440406297 -5.47696055175351E-09"
        rpy="0 0 0" />
      <mass
        value="0.087845570482565" />
      <inertia
        ixx="3.06030755984636E-06"
        ixy="-2.0055465089677E-10"
        ixz="6.90873819161413E-14"
        iyy="0.000629554339430064"
        iyz="-2.15815990065477E-07"
        izz="0.000627138812450338" />
    </inertial>
    <visual>
      <origin
        xyz="0 0 0"
        rpy="0 0 0" />
      <geometry>
        <mesh
          filename="../meshes/r_leg_l42.STL" />
      </geometry>
      <material
        name="">
        <color
          rgba="0.988235294117647 0.737254901960784 0.517647058823529 1" />
      </material>
    </visual>
    <collision>
      <origin
        xyz="0 0 0"
        rpy="0 0 0" />
      <geometry>
        <mesh
          filename="../meshes/r_leg_l42.STL" />
      </geometry>
    </collision> 
  </link>
  <joint
    name="r_leg_42"
    type="revolute">
    <origin
      xyz="-0.047183 0.012264 0.016545"
      rpy="3.1416 1.3682 -3.1416" />
    <parent
      link="r_leg_l41" />
    <child
      link="r_leg_l42" />
    <axis
      xyz="0 1 0" />
    <limit
      lower="-0.785"
      upper="0.785"
      effort="0"
      velocity="0" />
  </joint>
  <link
    name="r_leg_l43">
    <inertial>
      <origin
        xyz="-0.011463150505246 -0.00184674101313981 0.00612063316252887"
        rpy="0 0 0" />
      <mass
        value="0.051283162061293" />
      <inertia
        ixx="1.25170357757132E-05"
        ixy="1.82051833991145E-06"
        ixz="5.89898431907912E-06"
        iyy="3.30040940778416E-05"
        iyz="-9.72039957877113E-07"
        izz="2.32373511223356E-05" />
    </inertial>
    <visual>
      <origin
        xyz="0 0 0"
        rpy="0 0 0" />
      <geometry>
        <mesh
          filename="../meshes/r_leg_l43.STL" />
      </geometry>
      <material
        name="">
        <color
          rgba="0.898039215686275 0.92156862745098 0.929411764705882 1" />
      </material>
    </visual>
    <collision>
      <origin
        xyz="0 0 0"
        rpy="0 0 0" />
      <geometry>
        <mesh
          filename="../meshes/r_leg_l43.STL" />
      </geometry>
    </collision>
  </link>
  <joint
    name="r_leg_43"
    type="revolute">
    <origin
      xyz="0.02001 0.03325 -0.17"
      rpy="0 0 0" />
    <parent
      link="r_leg_l4" />
    <child
      link="r_leg_l43" />
    <axis
      xyz="0 1 0" />
    <limit
      lower="-0.785"
      upper="0.785"
      effort="0"
      velocity="0" />
  </joint>
  <link
    name="r_leg_l44">
    <inertial>
      <origin
        xyz="0.0818916955697413 0.00350131671070618 5.44048711637046E-09"
        rpy="0 0 0" />
      <mass
        value="0.0628338558710504" />
      <inertia
        ixx="2.64238019593022E-06"
        ixy="-7.26703321199039E-11"
        ixz="-2.04602181132046E-14"
        iyy="0.000214490168090826"
        iyz="5.96454851426245E-08"
        izz="0.000212294081737284" />
    </inertial>
    <visual>
      <origin
        xyz="0 0 0"
        rpy="0 0 0" />
      <geometry>
        <mesh
          filename="../meshes/r_leg_l44.STL" />
      </geometry>
      <material
        name="">
        <color
          rgba="0.988235294117647 0.737254901960784 0.517647058823529 1" />
      </material>
    </visual>
    <collision>
      <origin
        xyz="0 0 0"
        rpy="0 0 0" />
      <geometry>
        <mesh
          filename="../meshes/r_leg_l44.STL" />
      </geometry>
    </collision> 
  </link>
  <joint
    name="r_leg_44"
    type="revolute">
    <origin
      xyz="-0.047185 -0.012251 0.01654"
      rpy="3.1416 1.3535 3.1416" />
    <parent
      link="r_leg_l43" />
    <child
      link="r_leg_l44" />
    <axis
      xyz="0 1 0" />
    <limit
      lower="-0.785"
      upper="0.785"
      effort="0"
      velocity="0" />
  </joint>
  <link
    name="r_leg_l31">
    <inertial>
      <origin
        xyz="0.0113741521453147 -0.00244742589451077 0.0197032325085702"
        rpy="0 0 0" />
      <mass
        value="0.211704485345771" />
      <inertia
        ixx="0.000195076873852222"
        ixy="-1.588910015487E-05"
        ixz="-5.52318547126909E-05"
        iyy="0.000305720132800738"
        iyz="-2.75246210588311E-05"
        izz="0.000131283884153126" />
    </inertial>
    <visual>
      <origin
        xyz="0 0 0"
        rpy="0 0 0" />
      <geometry>
        <mesh
          filename="../meshes/r_leg_l31.STL" />
      </geometry>
      <material
        name="">
        <color
          rgba="0.898039215686275 0.92156862745098 0.929411764705882 1" />
      </material>
    </visual>
    <collision>
      <origin
        xyz="0 0 0"
        rpy="0 0 0" />
      <geometry>
        <mesh
          filename="../meshes/r_leg_l31.STL" />
      </geometry>
    </collision>
  </link>
  <joint
    name="r_leg_31"
    type="revolute">
    <origin
      xyz="0 0.03052 -0.105"
      rpy="0 0 0" />
    <parent
      link="r_leg_l3" />
    <child
      link="r_leg_l31" />
    <axis
      xyz="0 1 0" />
    <limit
      lower="-0.785"
      upper="0.785"
      effort="0"
      velocity="0" />
  </joint>
  <link
    name="r_leg_l32">
    <inertial>
      <origin
        xyz="0.0874999987876224 -0.00150002458809034 0.00785566542940991"
        rpy="0 0 0" />
      <mass
        value="0.0813255142798759" />
      <inertia
        ixx="7.85294773085039E-06"
        ixy="4.62493646507546E-11"
        ixz="3.56240881791477E-18"
        iyy="0.000341330703551003"
        iyz="1.01094712788309E-11"
        izz="0.000334953337703094" />
    </inertial>
    <visual>
      <origin
        xyz="0 0 0"
        rpy="0 0 0" />
      <geometry>
        <mesh
          filename="../meshes/r_leg_l32.STL" />
      </geometry>
      <material
        name="">
        <color
          rgba="0.568627450980392 0.549019607843137 0.509803921568627 1" />
      </material>
    </visual>
    <collision>
      <origin
        xyz="0 0 0"
        rpy="0 0 0" />
      <geometry>
        <mesh
          filename="../meshes/r_leg_l32.STL" />
      </geometry>
    </collision>
  </link>
  <joint
    name="r_leg_32"
    type="revolute">
    <origin
      xyz="0.033997 -0.0075204 0.058892"
      rpy="0 1.4835 0" />
    <parent
      link="r_leg_l31" />
    <child
      link="r_leg_l32" />
    <axis
      xyz="0 1 0" />
    <limit
      lower="-0.785"
      upper="0.785"
      effort="0"
      velocity="0" />
  </joint>   -->

</robot>
